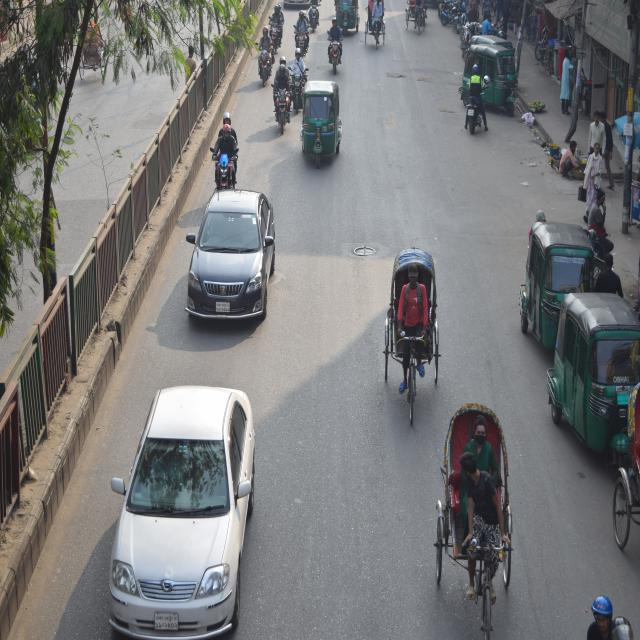car: (100, 375, 261, 640), (190, 188, 278, 329)
motorbike: (208, 128, 236, 196), (460, 71, 485, 140), (270, 74, 292, 138), (588, 208, 616, 256), (253, 41, 275, 86), (436, 0, 469, 28), (326, 27, 344, 72), (292, 58, 307, 111), (266, 11, 283, 47), (294, 21, 310, 58), (309, 1, 319, 28)
